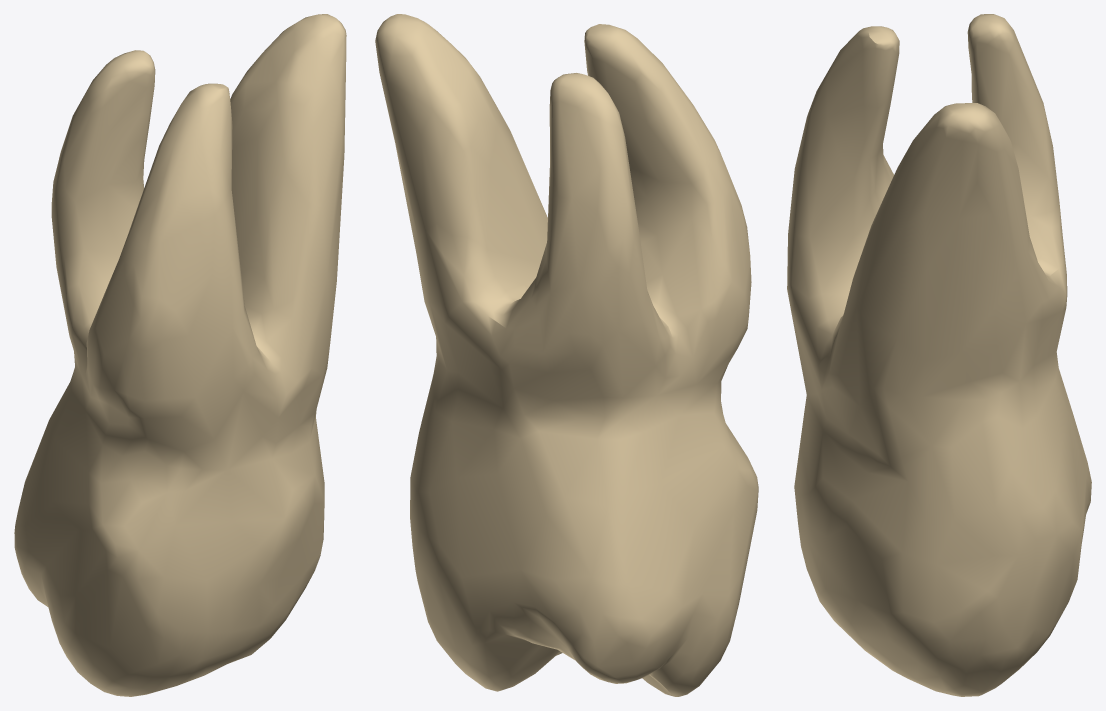
The model's file is tooth-17.glb.
3 renders of one model, left to right at view 1: azimuth 30°, elevation 25°; view 2: azimuth 150°, elevation 25°; view 3: azimuth 270°, elevation 25°, orthographic. The views are drawn at different scales.
Parts seen in each view (by area): view 1: tooth-17; view 2: tooth-17; view 3: tooth-17.
Boxes of the visible parts, x1,y1,x2,y2 form: tooth-17: (14, 14, 346, 696); tooth-17: (375, 14, 758, 696); tooth-17: (787, 14, 1091, 696).
Size of the model in its own units: 0.2978 by 0.5668 by 0.245.
